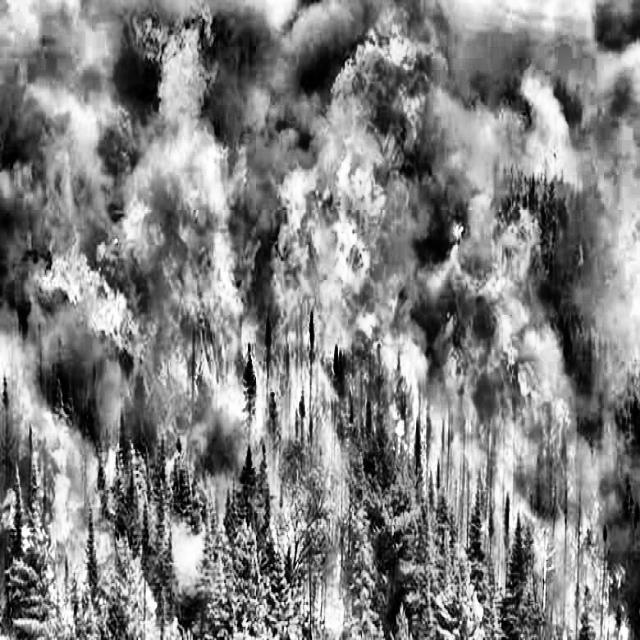fire: (293, 23, 612, 556), (59, 18, 268, 448), (0, 447, 448, 640)
